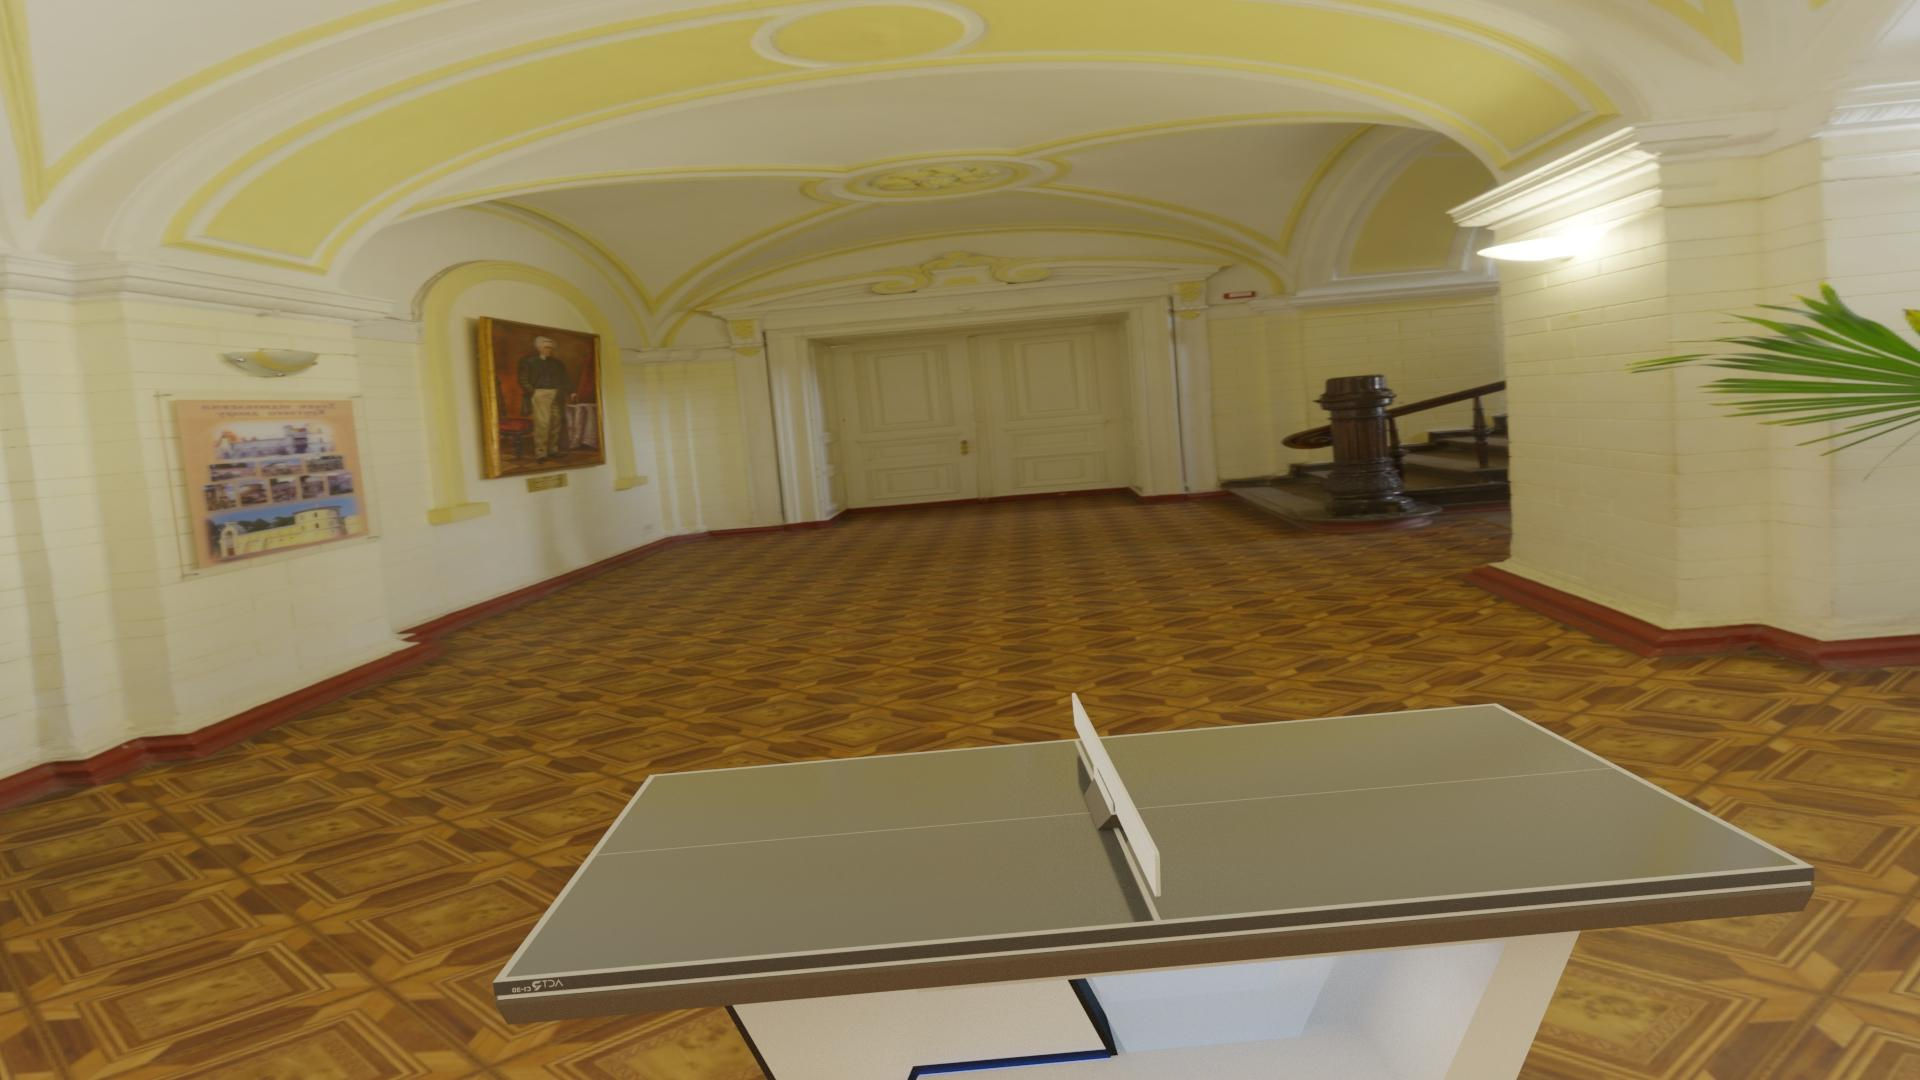table: (505, 705, 1799, 977)
